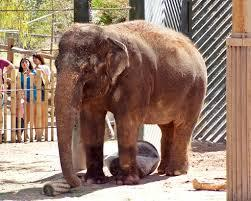elephant: (56, 20, 205, 185)
